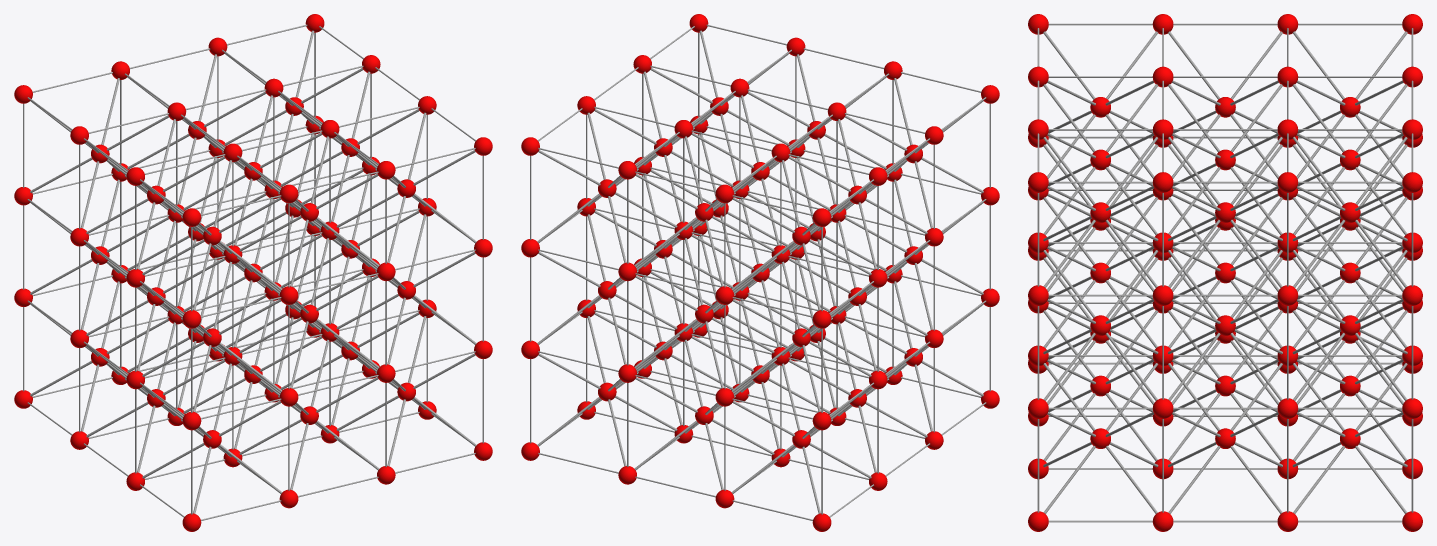
File: Kubisch_Raumzentriert_Gitter_Korrigiert.glb
The picture shows the model from 3 angles, left to right: view 1: azimuth 30°, elevation 25°; view 2: azimuth 150°, elevation 25°; view 3: azimuth 270°, elevation 25°; orthographic projection. The views are drawn at different scales.
Parts seen in each view (by area): view 1: world; view 2: world; view 3: world.
Boxes of the visible parts, left/top/right/bottom form: world: left=14, top=14, right=492, bottom=531; world: left=521, top=14, right=999, bottom=531; world: left=1028, top=14, right=1422, bottom=531.
Bounding box in the file's own units: 14.25 × 14.25 × 14.25.
